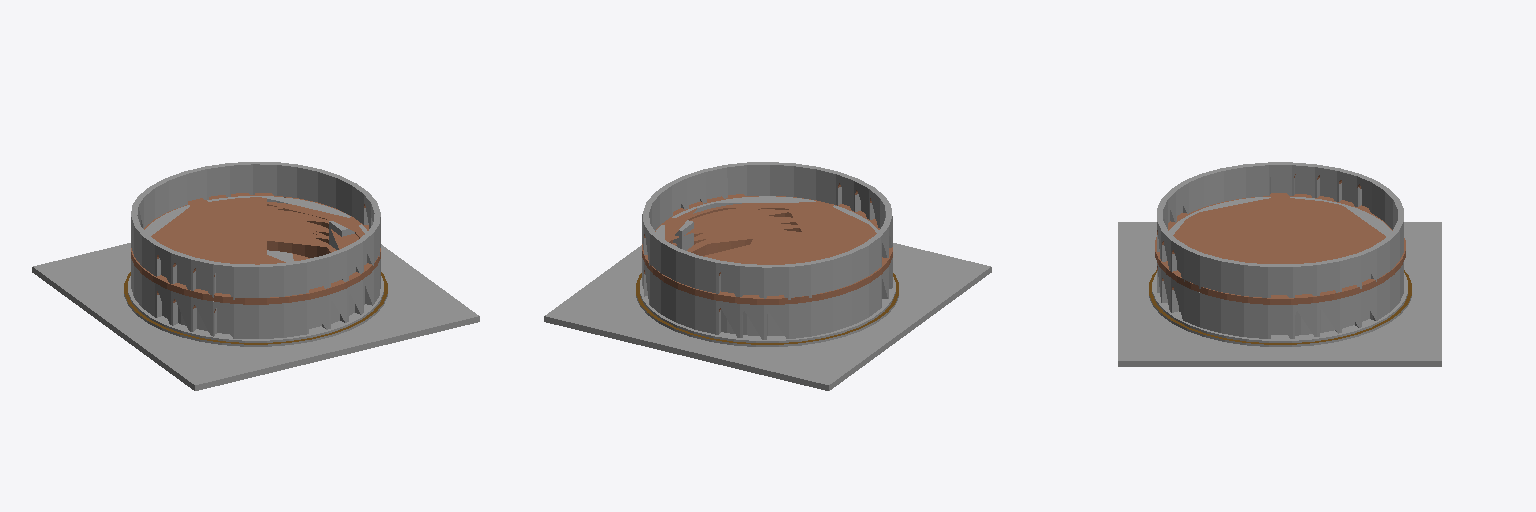
File: ruin.obj
3 renders of one model, left to right at view 1: azimuth 30°, elevation 25°; view 2: azimuth 150°, elevation 25°; view 3: azimuth 270°, elevation 25°, orthographic.
Parts seen in each view (by area): view 1: Arena_draft.lwo; view 2: Arena_draft.lwo; view 3: Arena_draft.lwo.
Part boxes in pixels (bbox=[...]): Arena_draft.lwo: bbox=[32, 162, 479, 390]; Arena_draft.lwo: bbox=[544, 162, 991, 390]; Arena_draft.lwo: bbox=[1118, 162, 1441, 366].
Size of the model in its own units: 40.28 by 11.17 by 39.84.